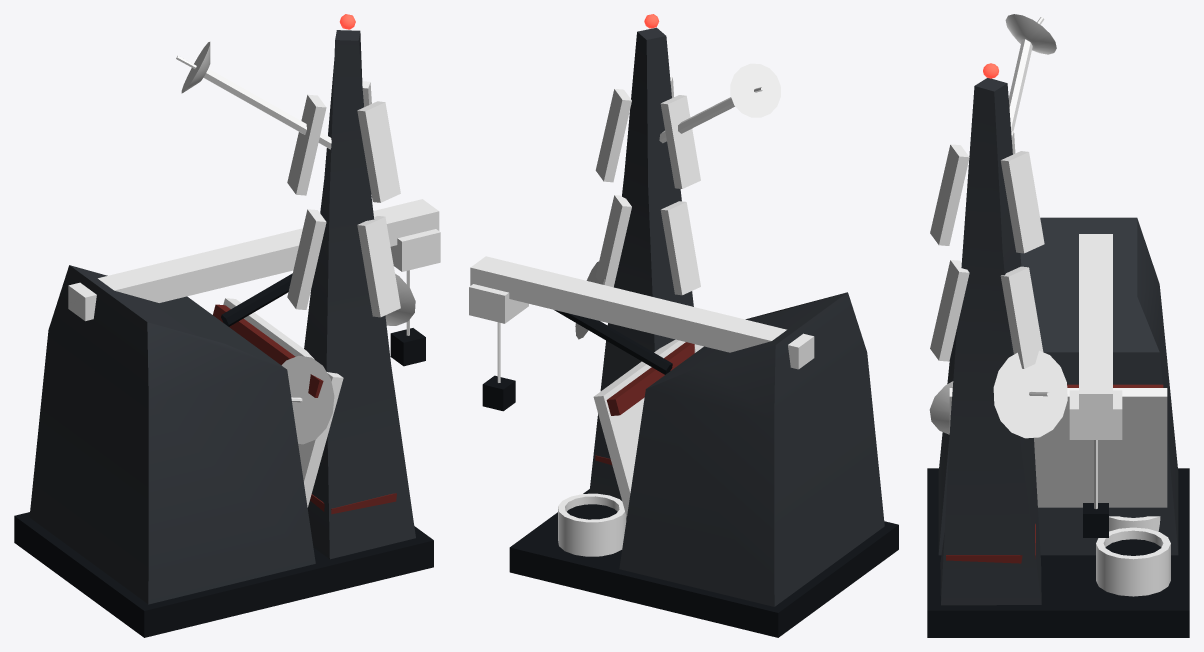
The model's file is flagship_crown.gltf.
3 renders of one model, left to right at view 1: azimuth 30°, elevation 25°; view 2: azimuth 150°, elevation 25°; view 3: azimuth 270°, elevation 25°, orthographic. The views are drawn at different scales.
Parts seen in each view (by area): view 1: panel, dark, mech, steel, armor, deepred; view 2: panel, dark, mech, steel, armor, deepred; view 3: panel, mech, dark, armor, steel, deepred, detail_steel.
Boxes of the visible parts, left/top/right/bottom form: panel: left=29, top=30, right=415, bottom=604; dark: left=14, top=273, right=433, bottom=637; mech: left=181, top=42, right=440, bottom=444; steel: left=68, top=68, right=439, bottom=321; armor: left=223, top=298, right=343, bottom=507; deepred: left=213, top=304, right=396, bottom=514; panel: left=589, top=27, right=884, bottom=606; dark: left=482, top=310, right=898, bottom=637; mech: left=469, top=63, right=780, bottom=556; steel: left=470, top=97, right=814, bottom=369; armor: left=593, top=339, right=685, bottom=517; deepred: left=595, top=342, right=694, bottom=464; panel: left=938, top=78, right=1178, bottom=605; mech: left=929, top=14, right=1170, bottom=596; dark: left=927, top=468, right=1189, bottom=637; armor: left=949, top=388, right=1167, bottom=507; steel: left=1008, top=39, right=1112, bottom=417; deepred: left=946, top=384, right=1163, bottom=563; detail_steel: left=1029, top=17, right=1097, bottom=508.
Bounding box in the file's own units: 11.5 × 16.12 × 7.
